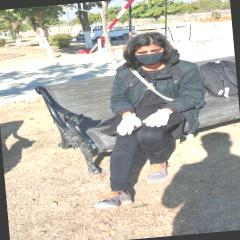gloved: (116, 113, 141, 136), (142, 110, 172, 128)
